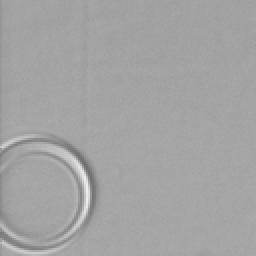picoshell: (0, 134, 92, 254)
